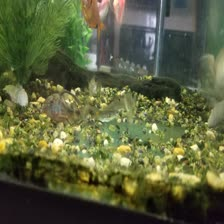Guppy: (77, 74, 106, 96), (95, 105, 121, 123)
Kiros: (43, 89, 88, 124)
Transparente: (72, 0, 108, 38)
